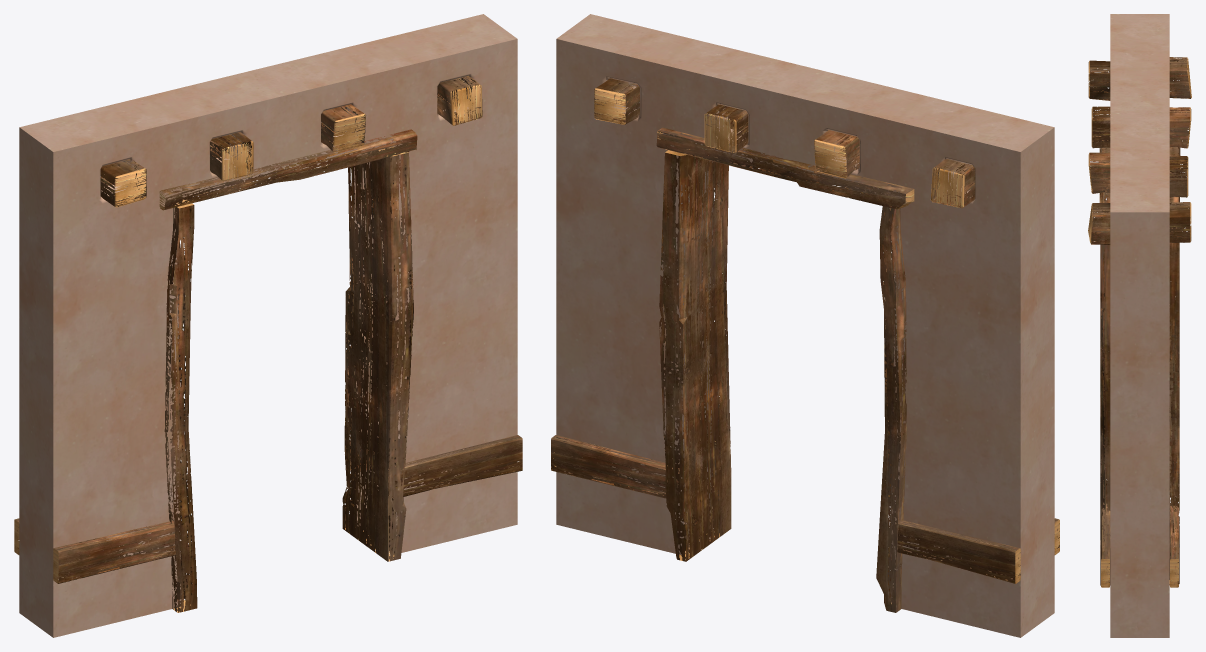
The picture shows the model from 3 angles, left to right: view 1: azimuth 30°, elevation 25°; view 2: azimuth 150°, elevation 25°; view 3: azimuth 270°, elevation 25°; orthographic projection. The views are drawn at different scales.
Parts seen in each view (by area): view 1: SM_BB_T4_Wall_Large_Doorframe_LOD0; view 2: SM_BB_T4_Wall_Large_Doorframe_LOD0; view 3: SM_BB_T4_Wall_Large_Doorframe_LOD0.
Part boxes in pixels (x1=…): SM_BB_T4_Wall_Large_Doorframe_LOD0: x1=14, y1=14, x2=522, y2=637; SM_BB_T4_Wall_Large_Doorframe_LOD0: x1=551, y1=14, x2=1059, y2=637; SM_BB_T4_Wall_Large_Doorframe_LOD0: x1=1088, y1=14, x2=1191, y2=637.
Size of the model in its own units: 3 by 3 by 0.6636.
Materials: 2 (2 with a texture image).
